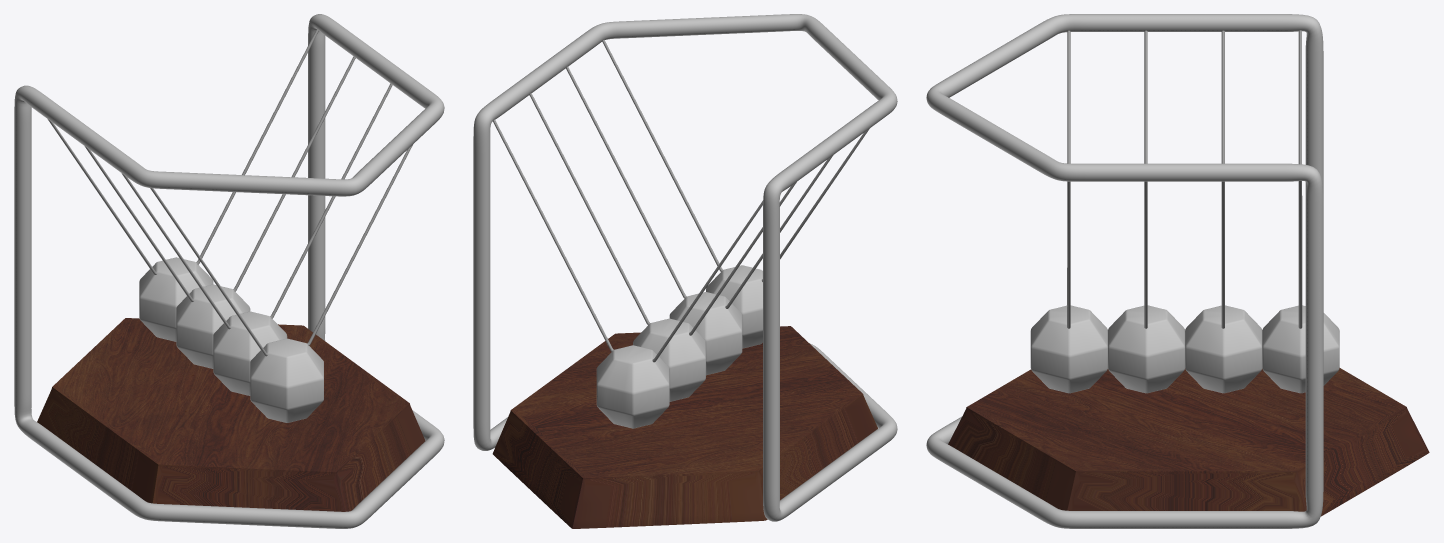
File: MOD_ART_ThreeRooms.fbx_Newton_s_Cradle_by_DJH_-_Modern_Desk_Toy.fbx
The picture shows the model from 3 angles, left to right: view 1: azimuth 30°, elevation 25°; view 2: azimuth 150°, elevation 25°; view 3: azimuth 270°, elevation 25°; orthographic projection. The views are drawn at different scales.
Parts seen in each view (by area): view 1: Base, Support, Hex Ball; view 2: Base, Support, Hex Ball; view 3: Base, Support, Hex Ball.
Part boxes in pixels (box(x1,y1,x2,y2)): Base: box(37, 318, 425, 511); Support: box(14, 14, 444, 528); Hex Ball: box(47, 29, 412, 422); Base: box(492, 326, 877, 528); Support: box(473, 14, 897, 521); Hex Ball: box(493, 40, 869, 428); Base: box(948, 368, 1429, 516); Support: box(926, 14, 1323, 528); Hex Ball: box(1030, 30, 1339, 393).
Bounding box in the file's own units: 14.57 × 15.71 × 19.7.
4 materials, 1 textured.
